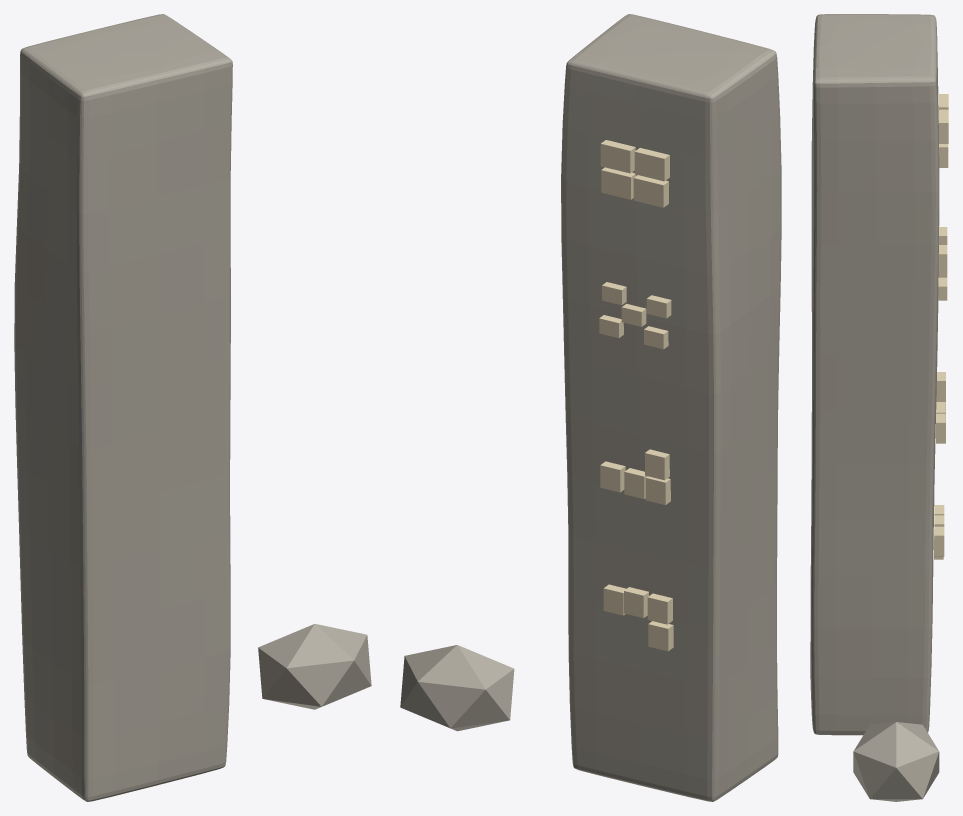
The model's file is 45-Arte3D_monolito_glifos.glb.
The picture shows the model from 3 angles, left to right: view 1: azimuth 30°, elevation 25°; view 2: azimuth 150°, elevation 25°; view 3: azimuth 270°, elevation 25°; orthographic projection. The views are drawn at different scales.
Visible parts, largest first — view 1: SM_Monolito_Cuerpo, SM_Monolito_Roto; view 2: SM_Monolito_Cuerpo, SM_Monolito_Roto, SM_Glifo.013, SM_Glifo.014, SM_Glifo.015, SM_Glifo.016, SM_Glifo, SM_Glifo.003, SM_Glifo.007, SM_Glifo.004; view 3: SM_Monolito_Cuerpo, SM_Monolito_Roto, SM_Glifo.014, SM_Glifo.002, SM_Glifo.007, SM_Glifo.004.
Part boxes in pixels (left/top/right/bottom): SM_Monolito_Cuerpo: left=14, top=14, right=232, bottom=801; SM_Monolito_Roto: left=258, top=624, right=371, bottom=709; SM_Monolito_Cuerpo: left=561, top=14, right=781, bottom=801; SM_Monolito_Roto: left=400, top=645, right=514, bottom=731; SM_Glifo.013: left=634, top=148, right=669, bottom=181; SM_Glifo.014: left=600, top=140, right=635, bottom=173; SM_Glifo.015: left=633, top=175, right=668, bottom=207; SM_Glifo.016: left=601, top=167, right=636, bottom=199; SM_Glifo: left=647, top=593, right=672, bottom=624; SM_Glifo.003: left=648, top=621, right=673, bottom=651; SM_Glifo.007: left=600, top=461, right=625, bottom=492; SM_Glifo.004: left=645, top=449, right=669, bottom=480; SM_Monolito_Cuerpo: left=810, top=14, right=939, bottom=735; SM_Monolito_Roto: left=853, top=722, right=939, bottom=801; SM_Glifo.014: left=939, top=109, right=948, bottom=143; SM_Glifo.002: left=934, top=526, right=944, bottom=556; SM_Glifo.007: left=936, top=413, right=945, bottom=443; SM_Glifo.004: left=936, top=372, right=945, bottom=401.
Bounding box in the file's own units: 0.9071 × 1.86 × 0.351.
